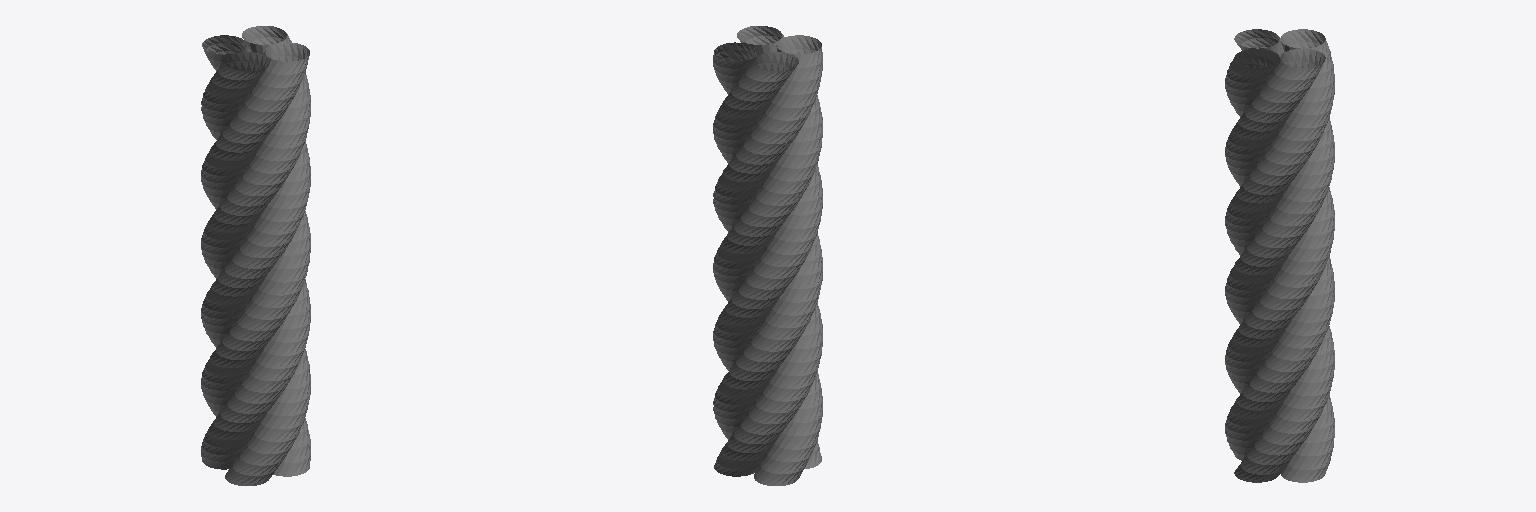
Rendered from ropeTest2.obj.
3 renders of one model, left to right at view 1: azimuth 30°, elevation 25°; view 2: azimuth 150°, elevation 25°; view 3: azimuth 270°, elevation 25°, orthographic.
Parts seen in each view (by area): view 1: pCylinder14; view 2: pCylinder14; view 3: pCylinder14.
Part boxes in pixels (x1,y1,x2,y2): pCylinder14: (201,26,310,485); pCylinder14: (713,26,822,485); pCylinder14: (1225,29,1334,482).
Bounding box in the file's own units: 0.2411 × 0.9998 × 0.2407.